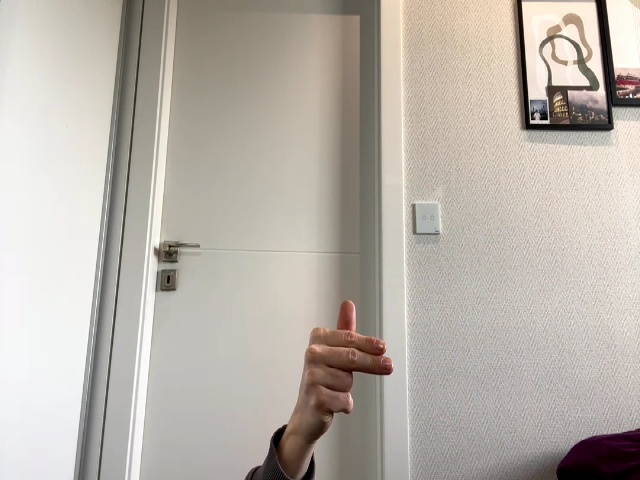N: (305, 300, 393, 418)
